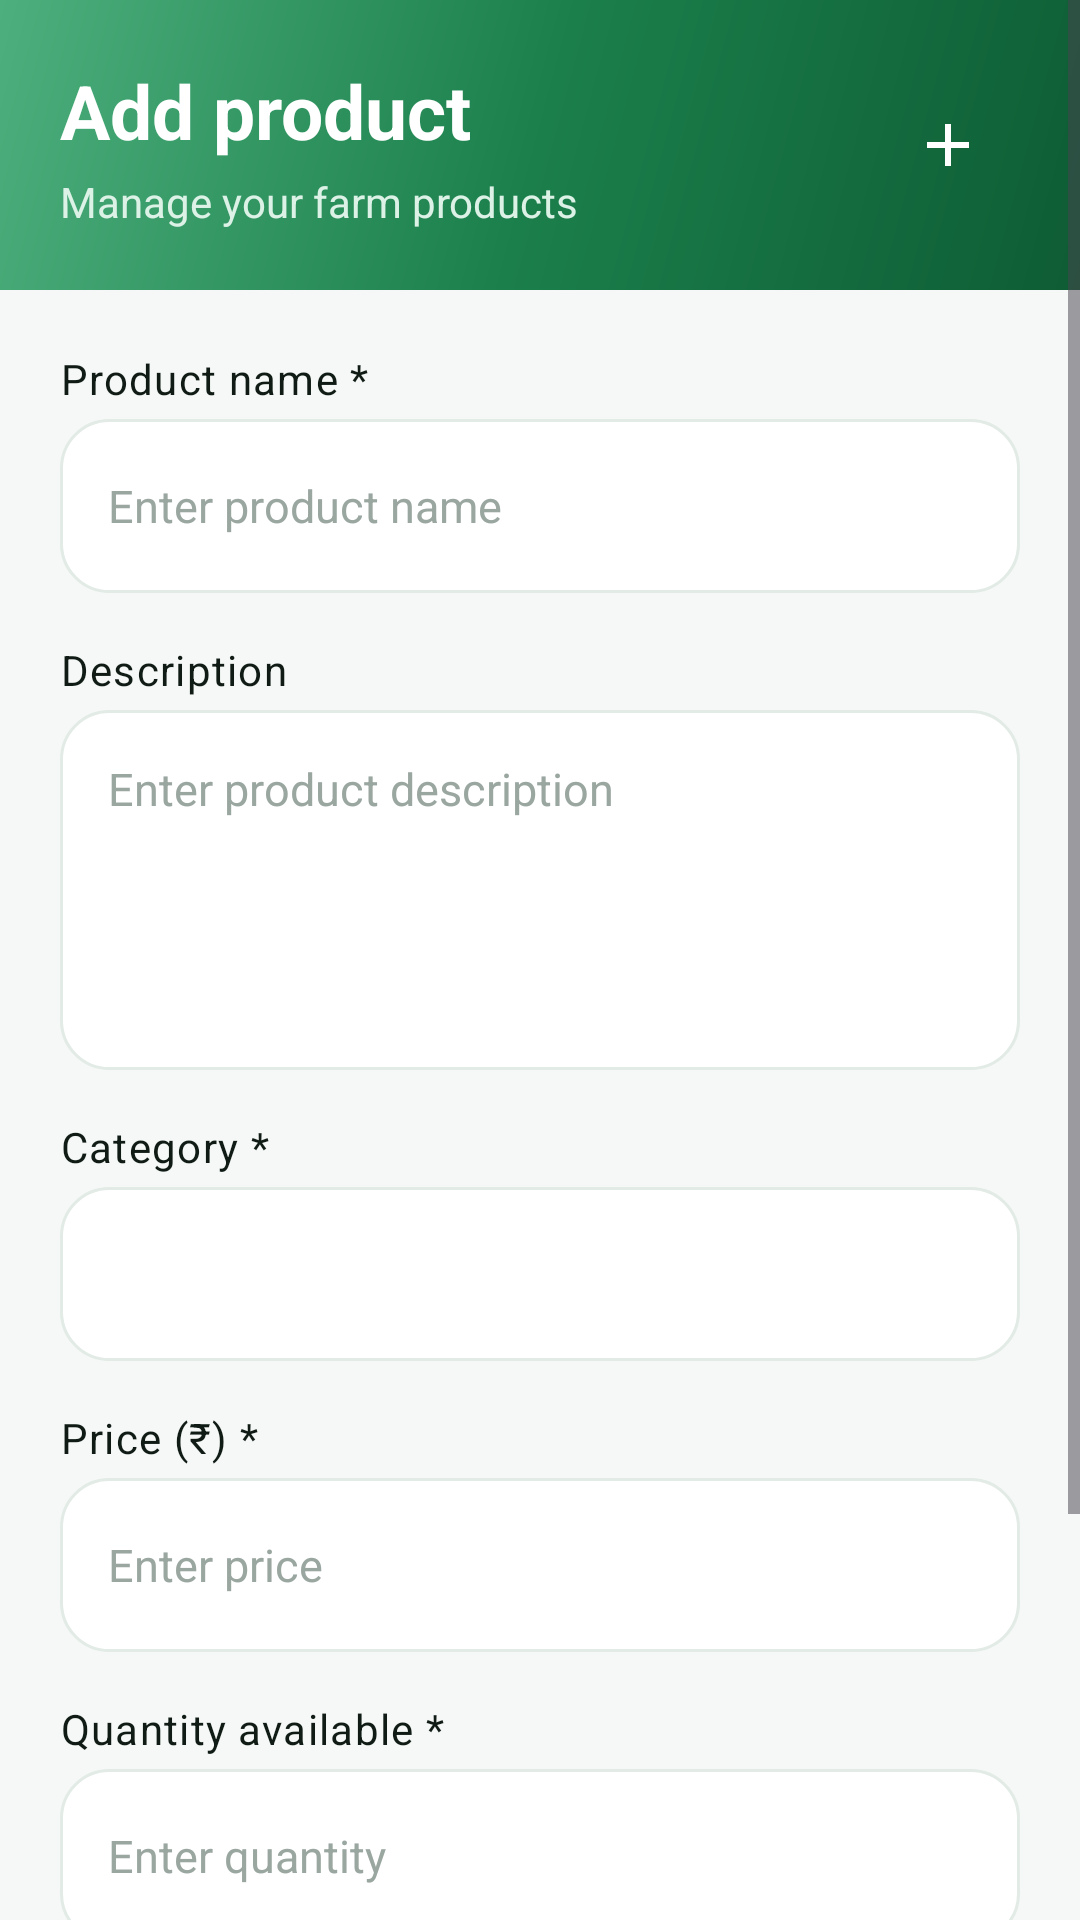

Named icons in this screenshot (1080×1920) and their centers, (x=x, y=y):
plus: (x=948, y=145)
